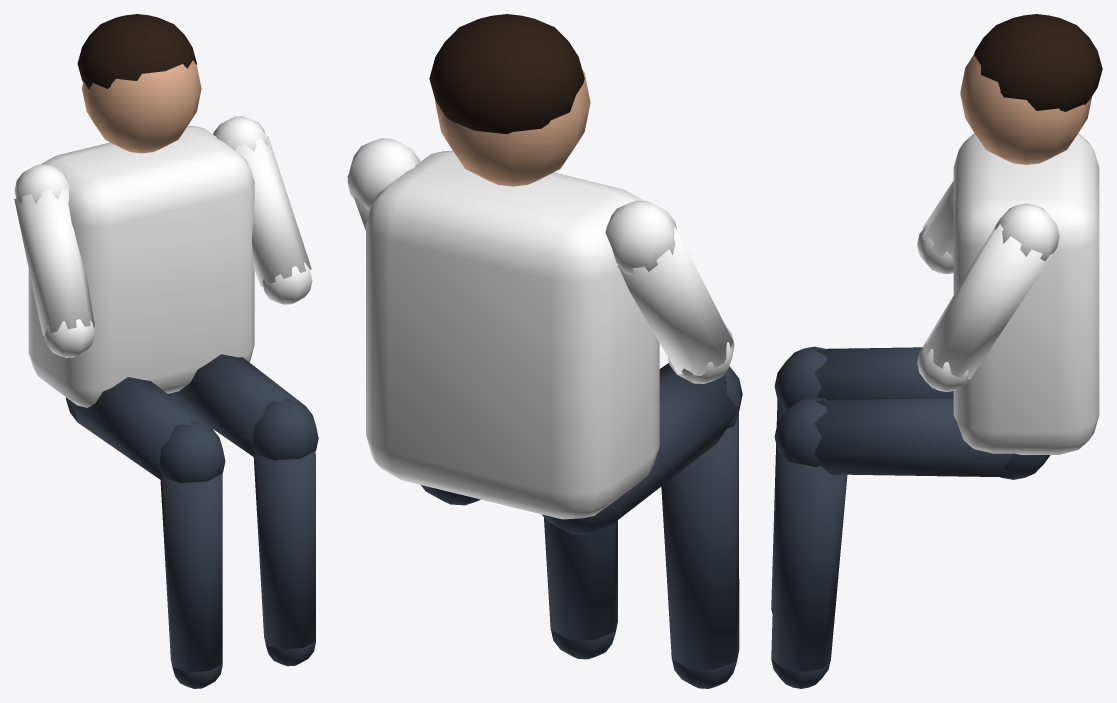
Rendered from crowd.glb.
3 views of the same model, side by side, from view 1: azimuth 30°, elevation 25°; view 2: azimuth 150°, elevation 25°; view 3: azimuth 270°, elevation 25° (orthographic). The views are drawn at different scales.
Visible parts, largest first — view 1: bb_crowd; view 2: bb_crowd; view 3: bb_crowd.
Boxes of the visible parts, x1=… form: bb_crowd: x1=14, y1=14, x2=318, y2=688; bb_crowd: x1=347, y1=14, x2=742, y2=688; bb_crowd: x1=771, y1=14, x2=1102, y2=688.
Size of the model in its own units: 0.51 by 1.07 by 0.5.
